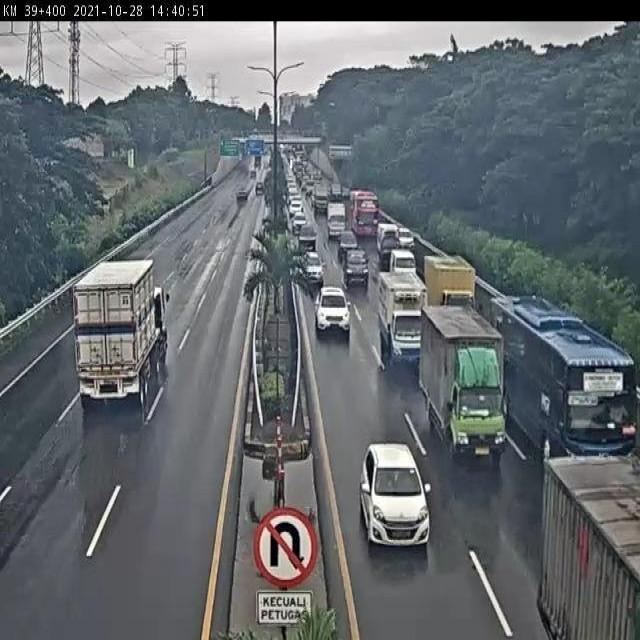big truck: (72, 256, 167, 412)
bus-l-: (486, 294, 639, 466)
car: (359, 444, 433, 547), (313, 282, 352, 330), (343, 246, 370, 282), (299, 248, 324, 285), (388, 248, 416, 279)
truck-m-: (418, 304, 508, 461), (376, 271, 427, 364), (423, 253, 475, 308)
